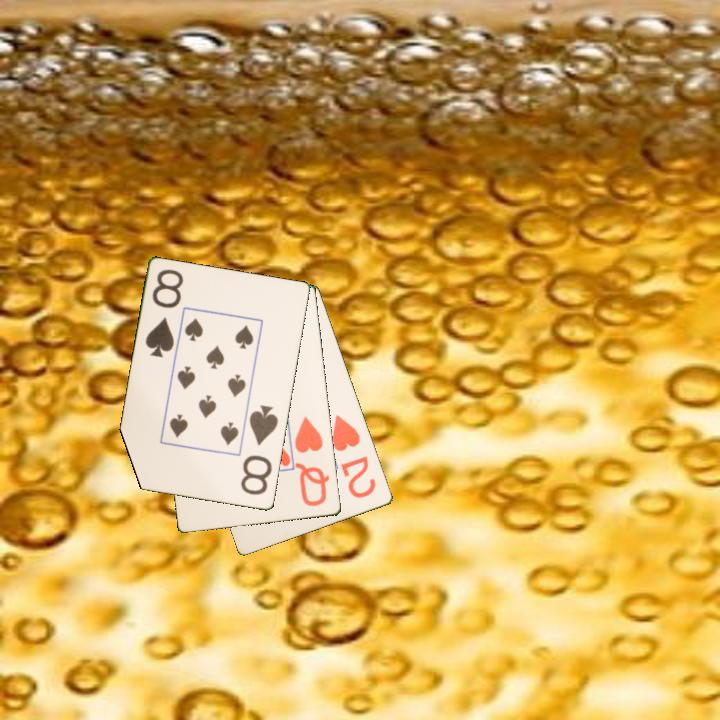2h: (329, 411, 379, 501)
8s: (142, 266, 187, 360), (237, 402, 281, 498)
Qh: (291, 414, 333, 510)
